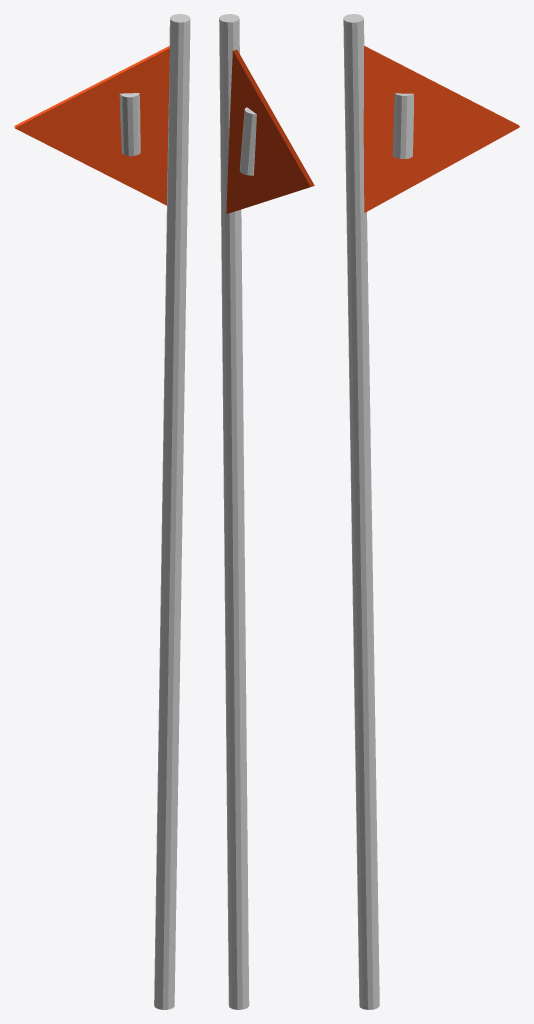
The model's file is Flag.glb.
3 views of the same model, side by side, from view 1: azimuth 90°, elevation 25°; view 2: azimuth 210°, elevation 25°; view 3: azimuth 270°, elevation 25° (orthographic).
Parts seen in each view (by area): view 1: Node; view 2: Node; view 3: Node.
Boxes of the visible parts, <box> form: Node: <box>14,14,190,1009</box>; Node: <box>219,14,314,1009</box>; Node: <box>343,14,519,1009</box>.
Bounding box in the file's own units: 0.026 × 1.05 × 0.1695.
